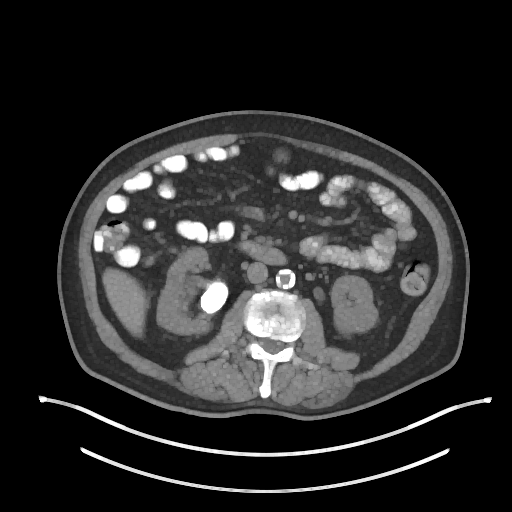Lesion: (196, 279, 232, 315)
